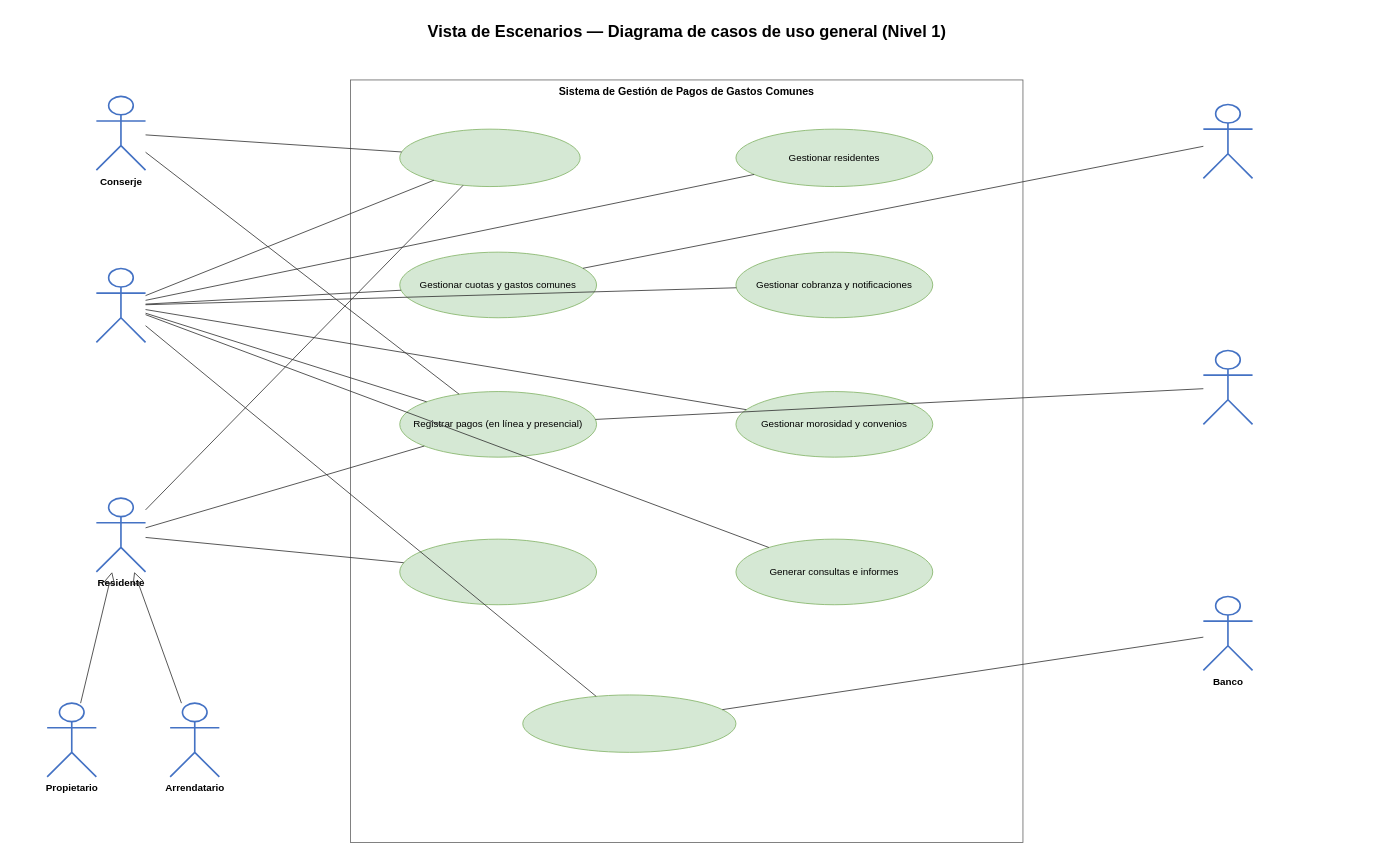
Image size: 1373x857. Some labels were removed from this diagram. Here are the shapes that lost their labels. From the top down, the centre of each, then its label:
the point at 489,157: Iniciar sesión
the point at 1227,141: Proveedores de servicios
the point at 120,305: Administrador
the point at 1227,387: Pasarela de pago
the point at 498,571: Consultar estado de cuenta
the point at 629,723: Conciliar pagos bancarios
